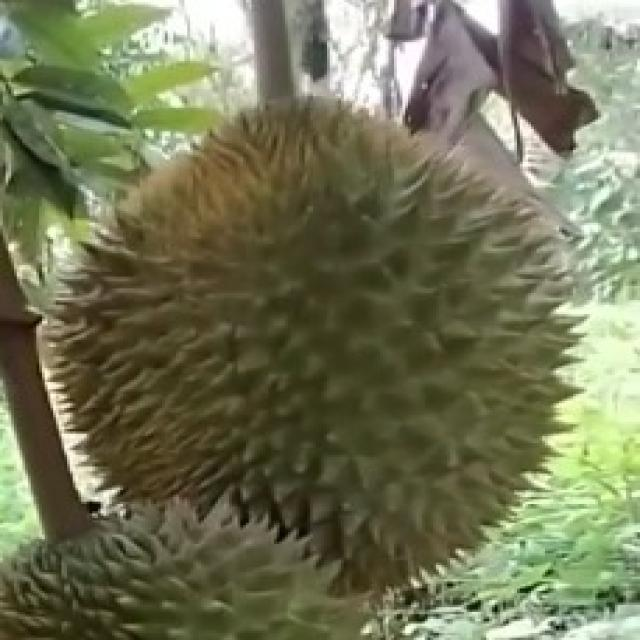immature: (46, 87, 585, 601)
